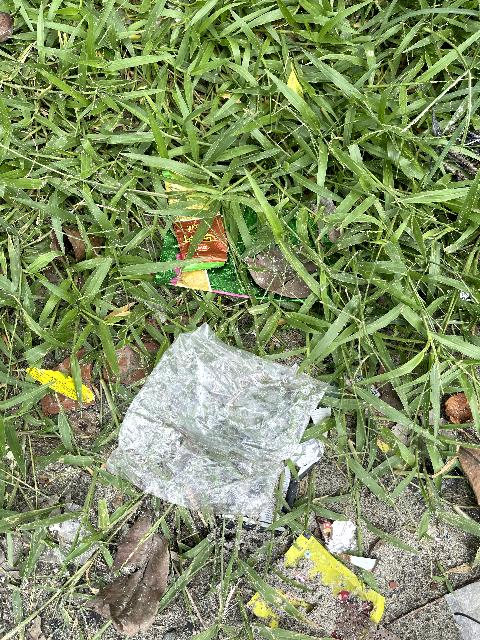polythene: (102, 324, 340, 523)
